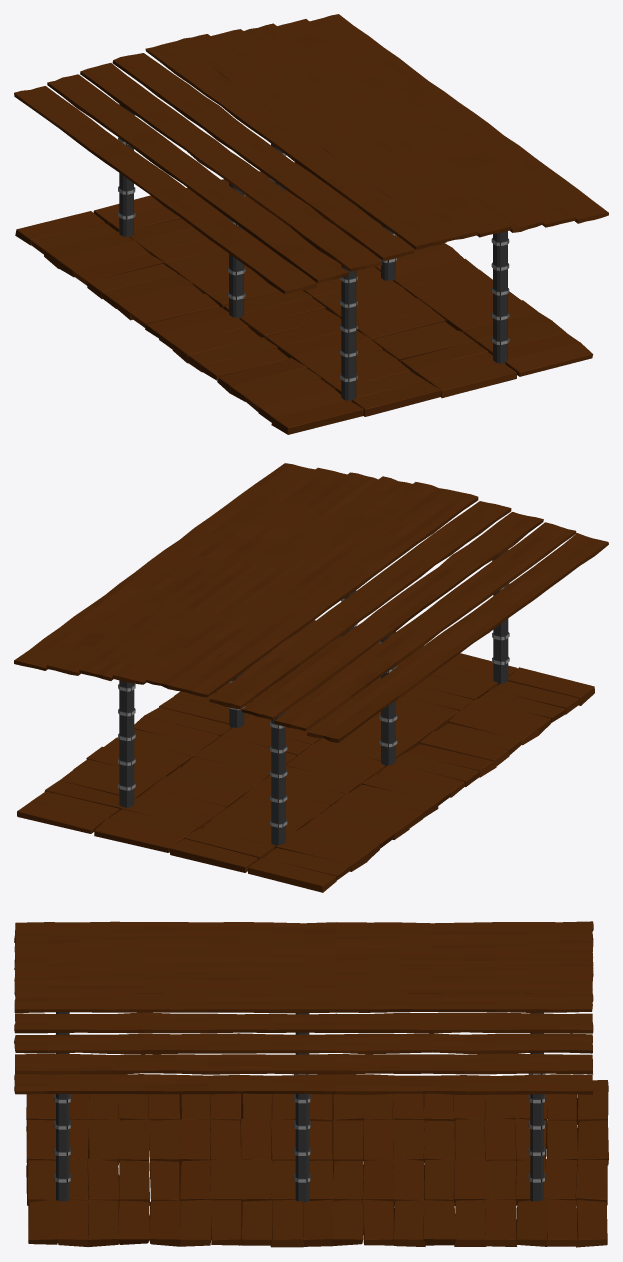
The model's file is WoodenHut_02.fbx.
3 views of the same model, one above another, from view 1: azimuth 30°, elevation 25°; view 2: azimuth 150°, elevation 25°; view 3: azimuth 270°, elevation 25° (orthographic). The views are drawn at different scales.
Visible parts, largest first — view 1: WoodenHut_02; view 2: WoodenHut_02; view 3: WoodenHut_02.
Boxes of the visible parts, bbox=[...] form: WoodenHut_02: bbox=[14, 14, 608, 434]; WoodenHut_02: bbox=[14, 463, 608, 892]; WoodenHut_02: bbox=[14, 921, 608, 1247].
Size of the model in its own units: 1127 by 545 by 1672.
